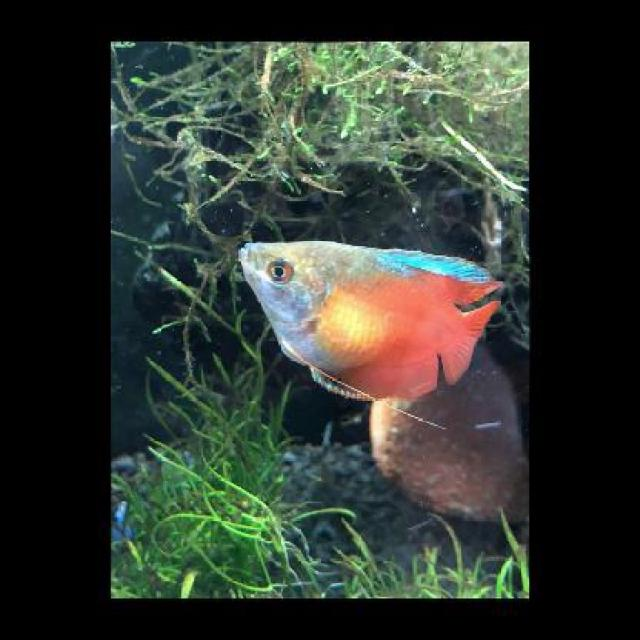Gourami: (237, 235, 506, 408)
